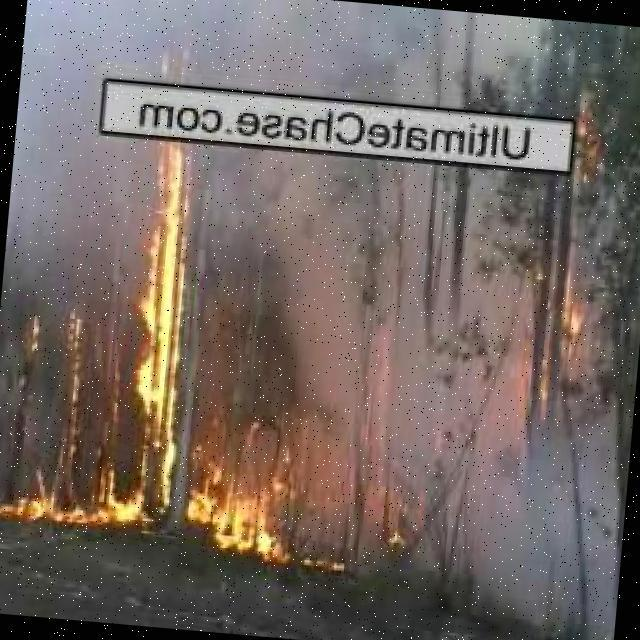Fire: (118, 56, 218, 538), (177, 462, 316, 558), (515, 278, 588, 413), (0, 464, 110, 534), (56, 307, 88, 440), (383, 486, 415, 559), (564, 111, 601, 173), (24, 314, 42, 368)
